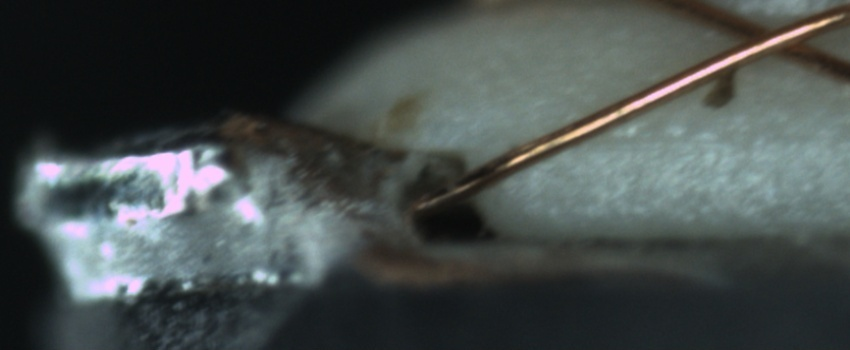CL: (705, 3, 834, 68)
DL: (568, 108, 840, 170)
